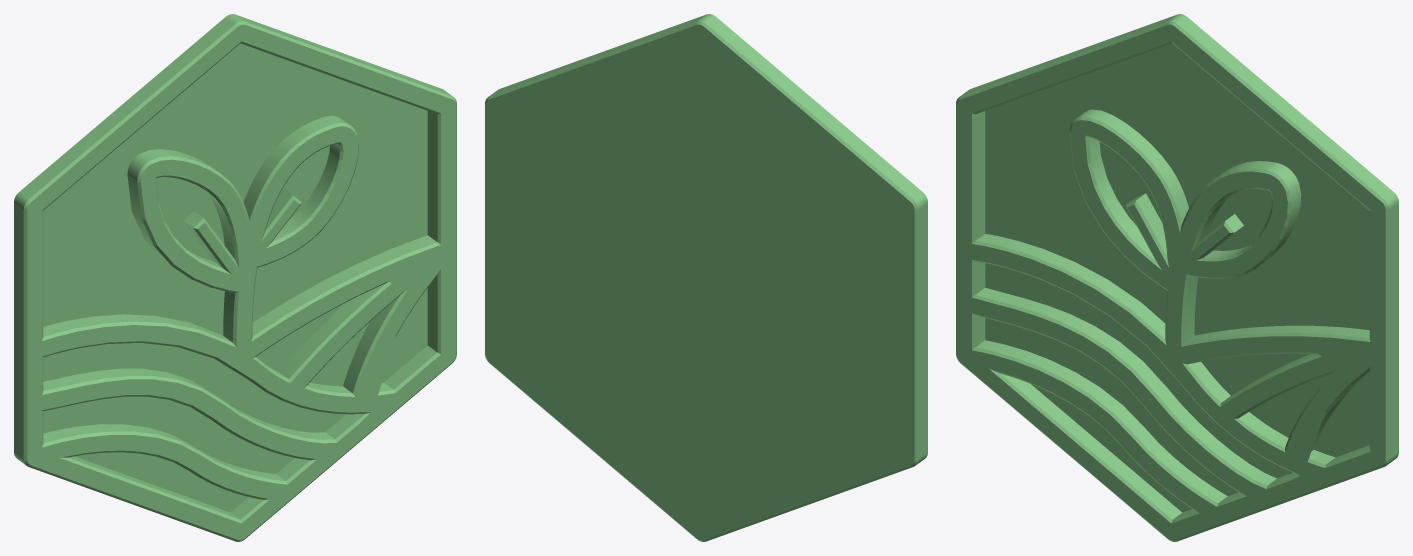
The model's file is singlemodel.DAE.
3 views of the same model, side by side, from view 1: azimuth 30°, elevation 25°; view 2: azimuth 150°, elevation 25°; view 3: azimuth 330°, elevation 25° (orthographic).
Parts seen in each view (by area): view 1: m; view 2: m; view 3: m.
Part boxes in pixels (x1,y1,x2,y2): m: [14, 14, 456, 541]; m: [485, 14, 927, 541]; m: [956, 14, 1398, 541].
Bounding box in the file's own units: 25.56 × 1.27 × 29.33.
